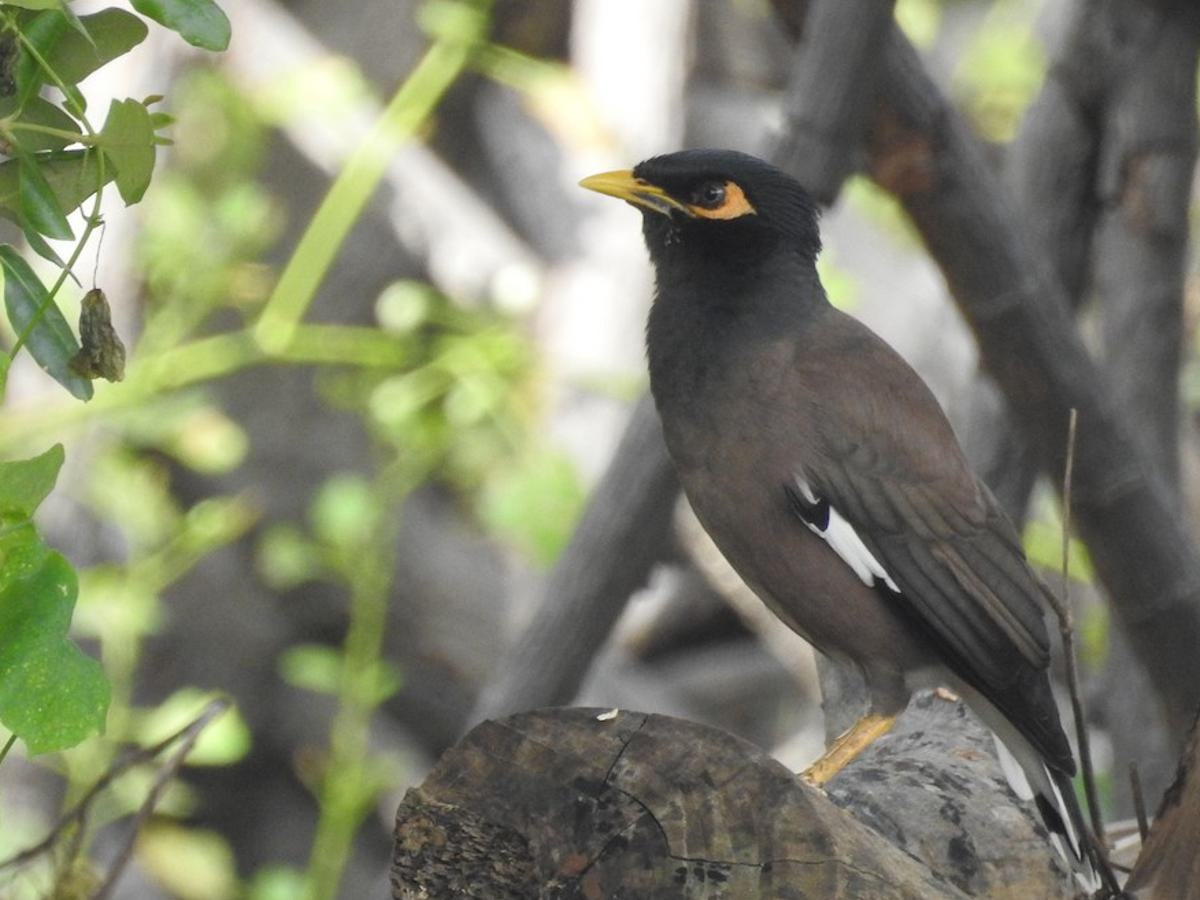myna: (548, 111, 1065, 726)
